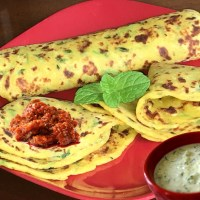aloo_paratha: (1, 7, 199, 179)
